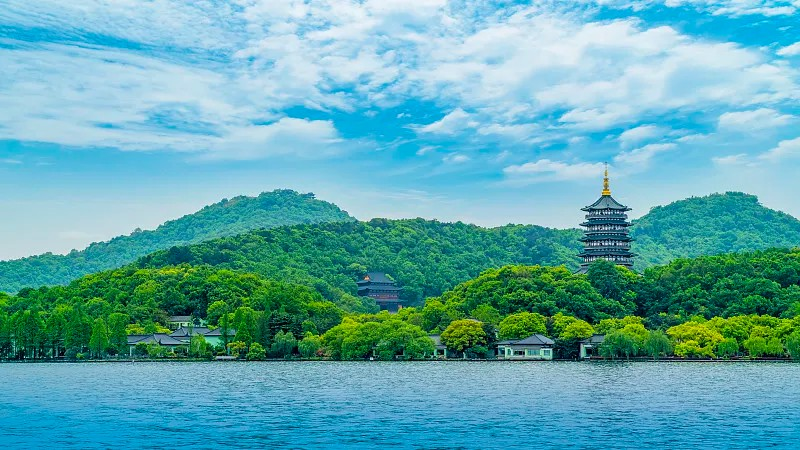Leifeng: (579, 161, 633, 277)
